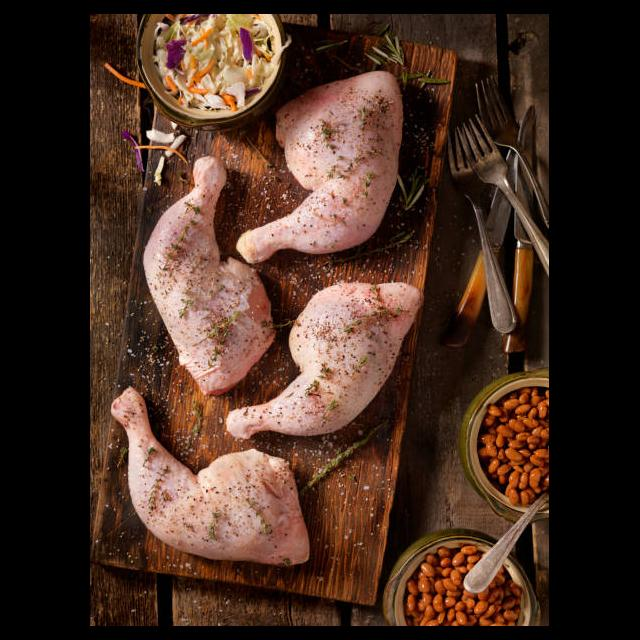chicken: (112, 389, 314, 570), (236, 64, 411, 260), (144, 159, 279, 399), (224, 284, 425, 445)
